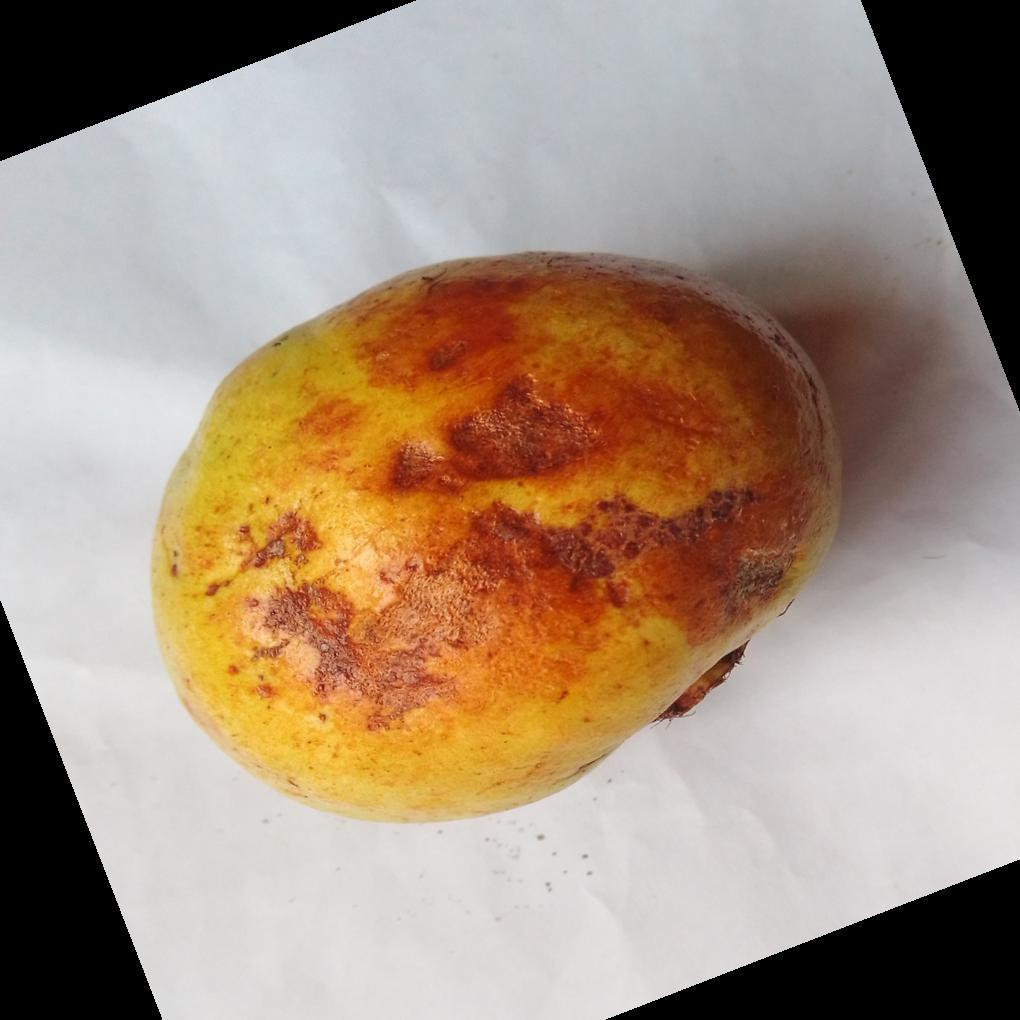FreshOrange: (147, 253, 842, 829)
